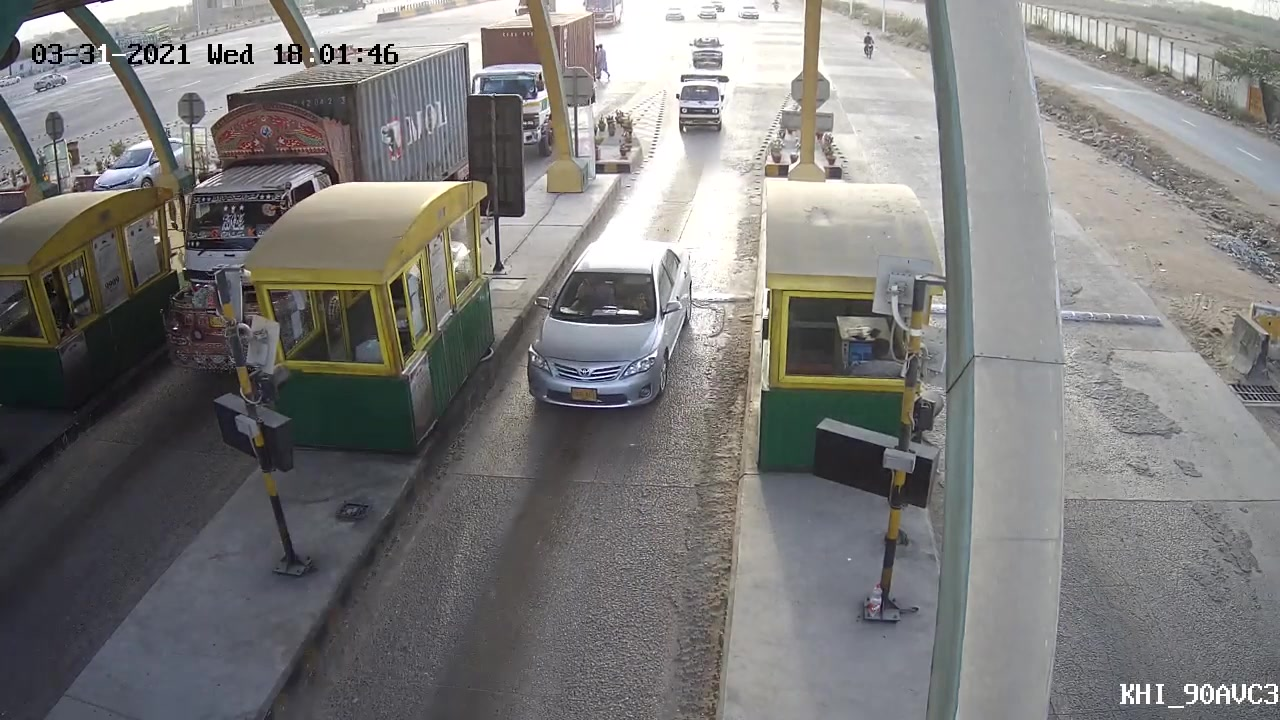F1: (507, 235, 710, 419)
